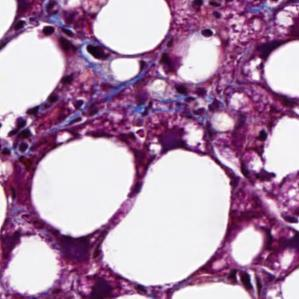inflammation: (59, 93, 110, 129), (193, 0, 247, 25), (76, 38, 115, 68)
